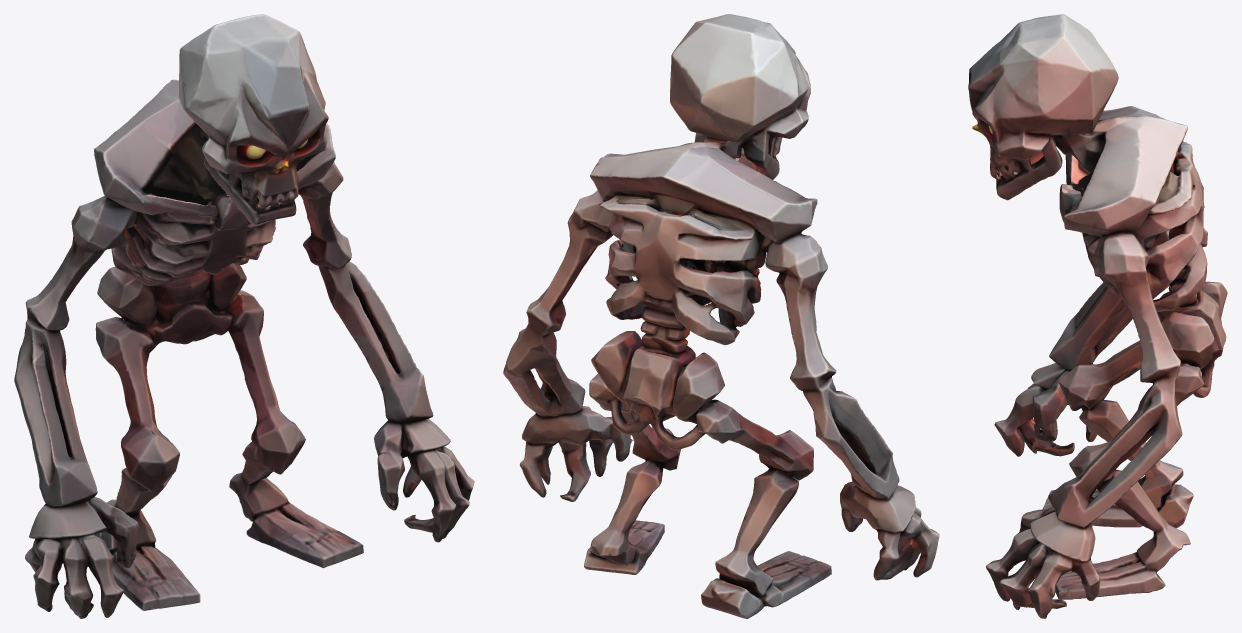
File: esqueletote.obj
The picture shows the model from 3 angles, left to right: view 1: azimuth 30°, elevation 25°; view 2: azimuth 150°, elevation 25°; view 3: azimuth 270°, elevation 25°; orthographic projection. The views are drawn at different scales.
Parts seen in each view (by area): view 1: Skeleton1_Skeleton1_001; view 2: Skeleton1_Skeleton1_001; view 3: Skeleton1_Skeleton1_001.
Boxes of the visible parts, left/top/right/bottom form: Skeleton1_Skeleton1_001: left=14, top=14, right=474, bottom=618; Skeleton1_Skeleton1_001: left=503, top=14, right=939, bottom=618; Skeleton1_Skeleton1_001: left=968, top=14, right=1227, bottom=618.
Size of the model in its own units: 31.61 by 39.37 by 17.73.
1 material, 1 textured.
